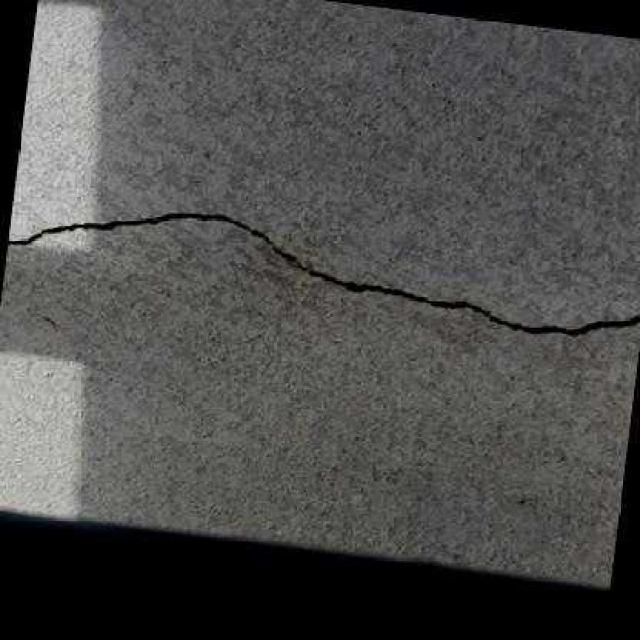D00: (8, 206, 640, 336)
